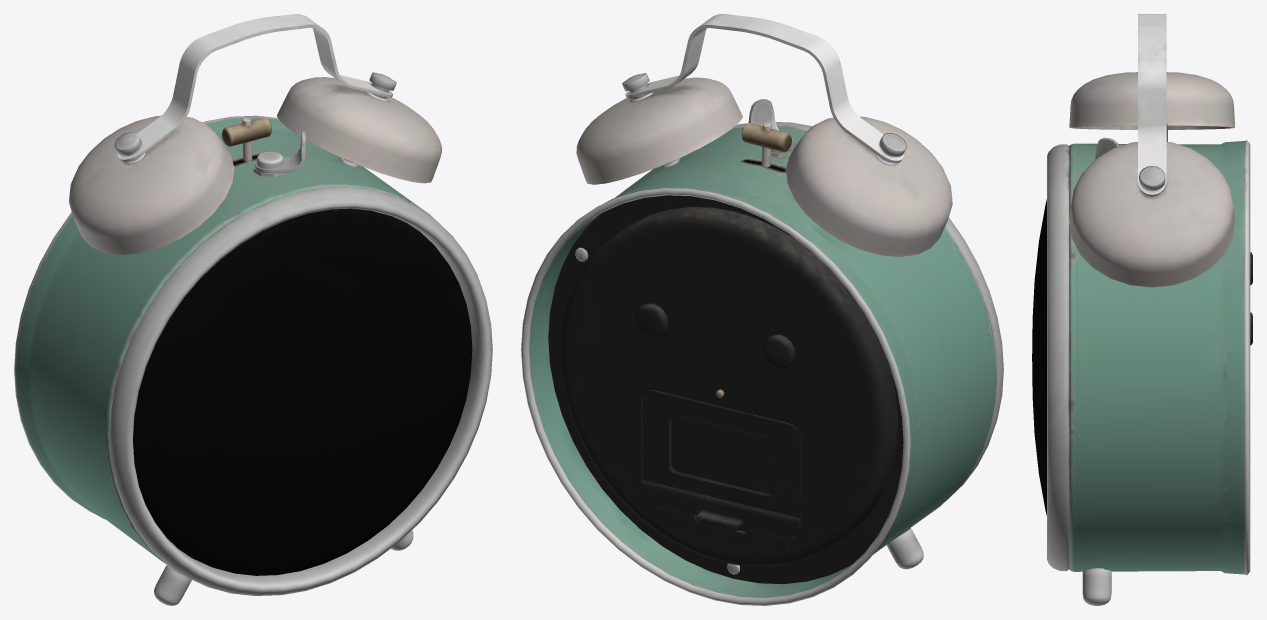
File: alarm_clock_01.glb
The picture shows the model from 3 angles, left to right: view 1: azimuth 30°, elevation 25°; view 2: azimuth 150°, elevation 25°; view 3: azimuth 270°, elevation 25°; orthographic projection. The views are drawn at different scales.
Parts seen in each view (by area): view 1: alarm_clock_01; view 2: alarm_clock_01; view 3: alarm_clock_01.
Part boxes in pixels (x1,y1,x2,y2): alarm_clock_01: (14,14,492,605); alarm_clock_01: (521,14,1003,605); alarm_clock_01: (1032,14,1252,605).
Size of the model in its own units: 0.1317 by 0.1742 by 0.0667.
Materials: 2 (2 with a texture image).
